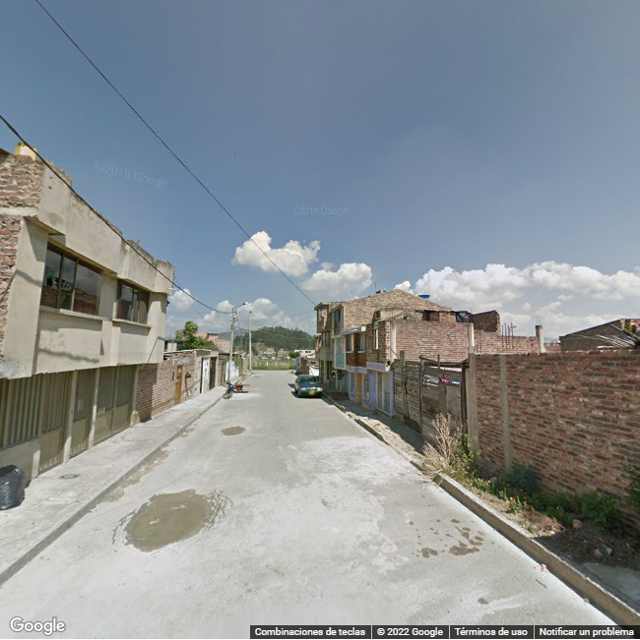D20: (209, 481, 233, 529)
D40: (118, 490, 206, 548)
